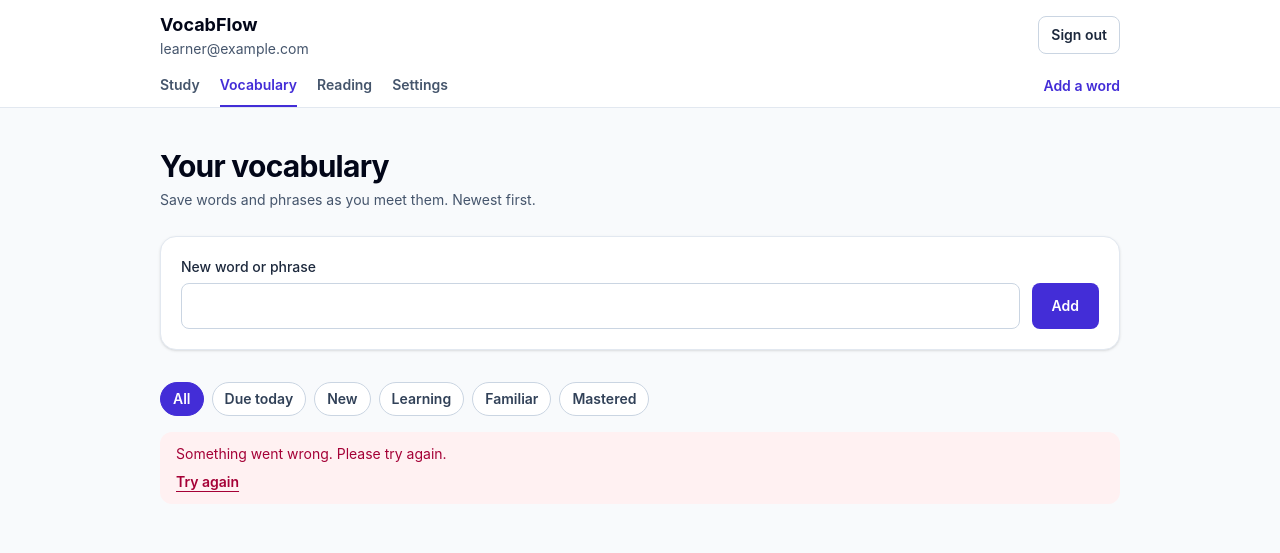
Test: shows a retryable error when the list cannot be loaded
The width and height of the screenshot is (1280, 553).
Expected: the message shows "Something went wrong. Please try again.", [176,445,447,462]
Click the button "Try again" at coordinates (208, 482), box [176,472,239,492]
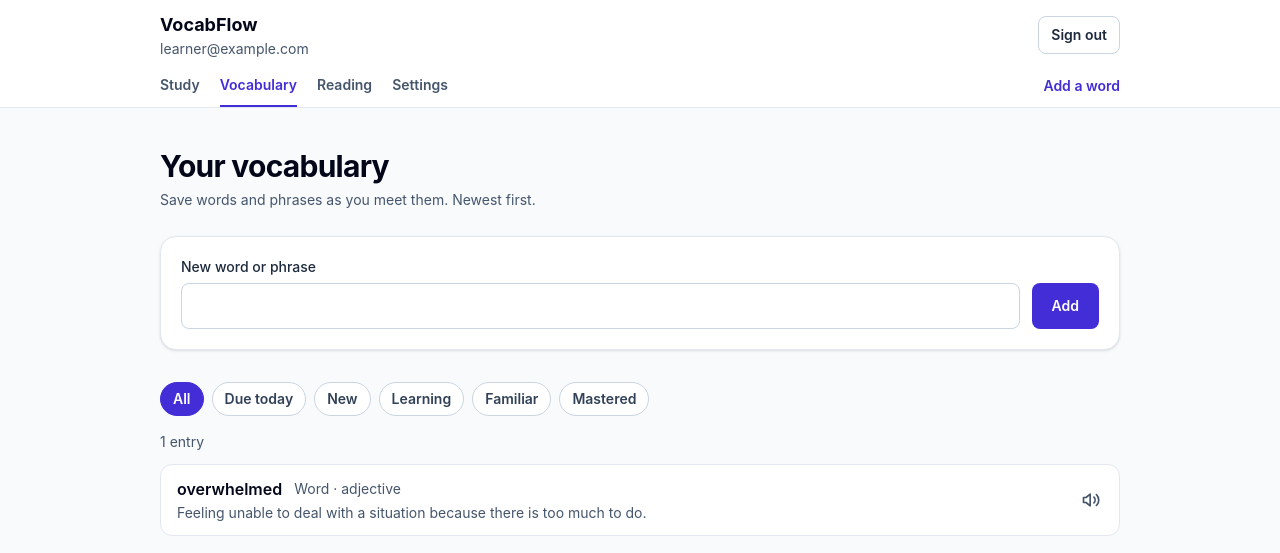
Now the text "overwhelmed" is shown, box [177,477,282,501]
